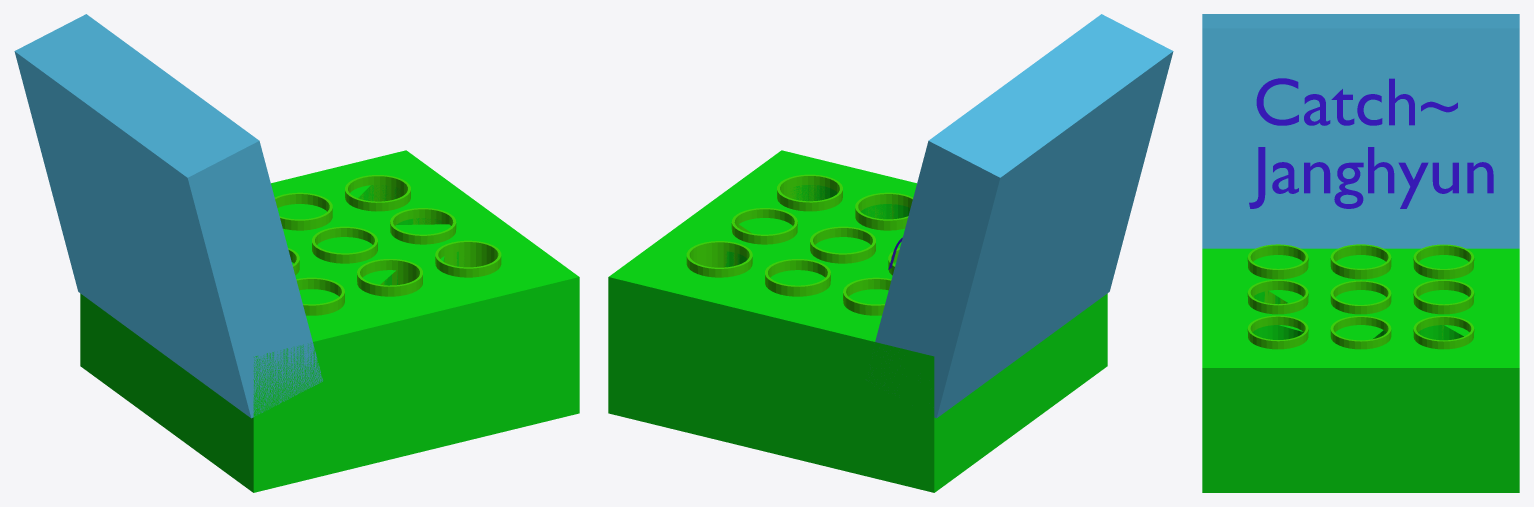
The model's file is CatchTable.fbx.
3 views of the same model, side by side, from view 1: azimuth 30°, elevation 25°; view 2: azimuth 150°, elevation 25°; view 3: azimuth 270°, elevation 25° (orthographic). The views are drawn at different scales.
Parts seen in each view (by area): view 1: Cube, Cube.001, Circle.002, Circle.008, Circle.001, Circle.007, Circle.006, Circle.004, Circle; view 2: Cube, Cube.001, Circle.008, Circle.002, Circle.004, Circle.006, Circle.007, Circle.001, Circle.005; view 3: Cube.001, Cube, Text, Circle.001, Circle.003, Circle, Circle.005, Circle.004, Circle.006, Circle.002, Circle.008, Circle.007.
Part boxes in pixels (bbox=[...]): Cube: bbox=[80, 150, 579, 492]; Cube.001: bbox=[14, 14, 322, 418]; Circle.002: bbox=[435, 240, 501, 277]; Circle.008: bbox=[345, 175, 410, 211]; Circle.001: bbox=[357, 259, 422, 296]; Circle.007: bbox=[390, 208, 456, 244]; Circle.006: bbox=[312, 226, 377, 263]; Circle.004: bbox=[275, 192, 332, 230]; Circle: bbox=[296, 277, 344, 315]; Cube: bbox=[608, 150, 1107, 492]; Cube.001: bbox=[875, 14, 1173, 418]; Circle.008: bbox=[686, 241, 752, 277]; Circle.002: bbox=[777, 174, 842, 211]; Circle.004: bbox=[765, 259, 830, 296]; Circle.006: bbox=[810, 226, 875, 263]; Circle.007: bbox=[731, 208, 797, 244]; Circle.001: bbox=[855, 192, 912, 230]; Circle.005: bbox=[843, 277, 891, 315]; Cube.001: bbox=[1202, 14, 1519, 248]; Cube: bbox=[1202, 248, 1519, 492]; Text: bbox=[1249, 78, 1493, 208]; Circle.001: bbox=[1247, 279, 1308, 314]; Circle.003: bbox=[1330, 244, 1391, 279]; Circle: bbox=[1247, 244, 1308, 279]; Circle.005: bbox=[1413, 244, 1474, 279]; Circle.004: bbox=[1413, 279, 1474, 314]; Circle.006: bbox=[1330, 280, 1391, 314]; Circle.002: bbox=[1247, 315, 1308, 349]; Circle.008: bbox=[1413, 316, 1474, 349]; Circle.007: bbox=[1330, 316, 1391, 349].
Size of the model in its own units: 601 by 514 by 460.
